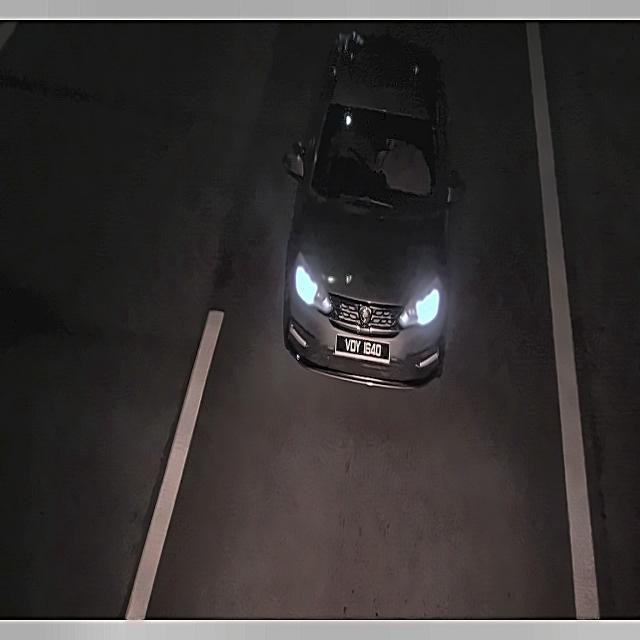car: (334, 328, 393, 363)
